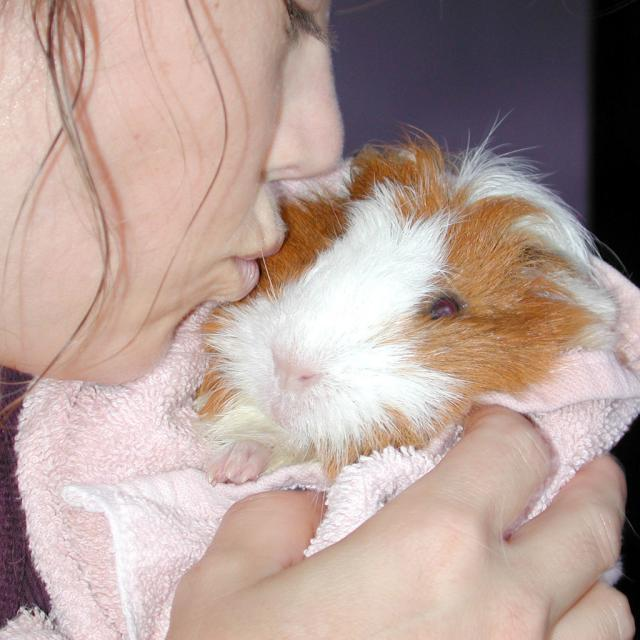rat: (170, 102, 632, 512)
